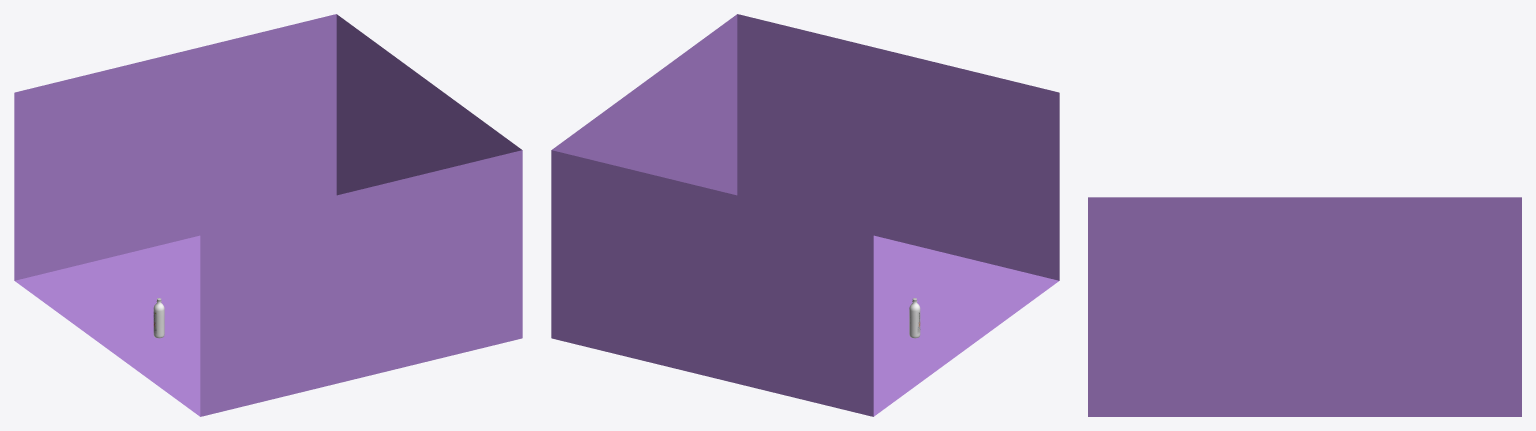
Rendered from bottle_model.glb.
3 renders of one model, left to right at view 1: azimuth 30°, elevation 25°; view 2: azimuth 150°, elevation 25°; view 3: azimuth 270°, elevation 25°, orthographic. The views are drawn at different scales.
Visible parts, largest first — view 1: Plane; view 2: Plane; view 3: Plane.
Part boxes in pixels (x1=…): Plane: x1=14, y1=14, x2=522, y2=416; Plane: x1=551, y1=14, x2=1059, y2=416; Plane: x1=1088, y1=197, x2=1521, y2=416.
Bounding box in the file's own units: 2.56 × 1.43 × 2.56.
Materials: 5 (2 with a texture image).
